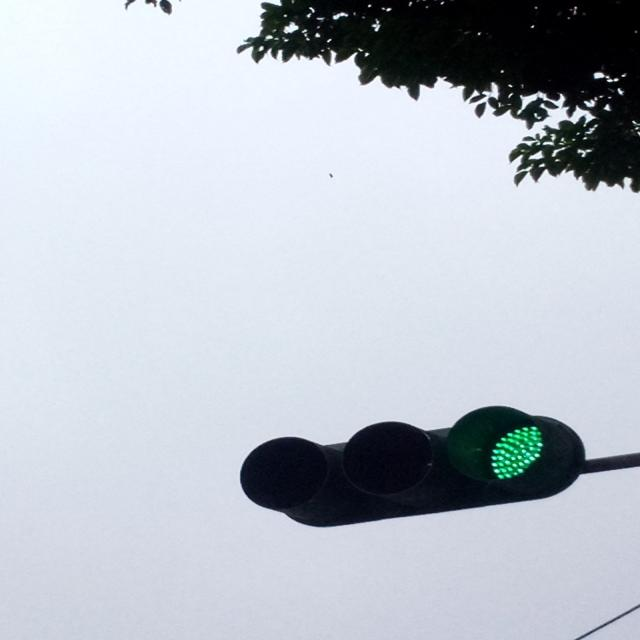green light: (234, 405, 598, 520)
